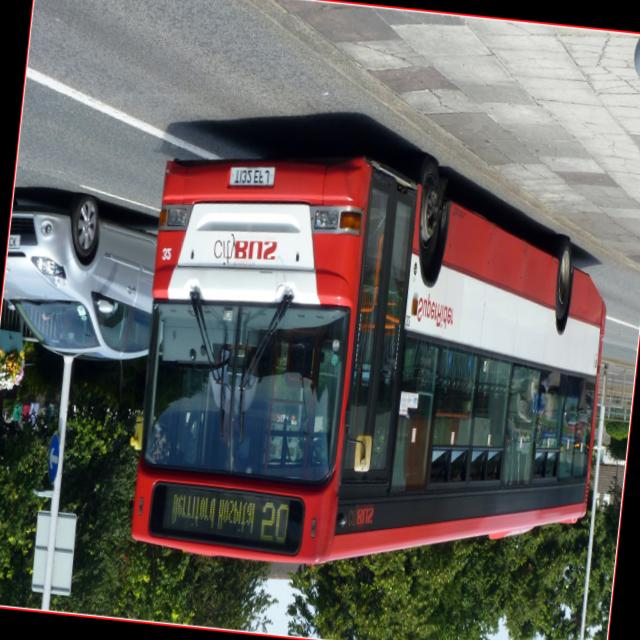bus: (120, 130, 620, 606)
